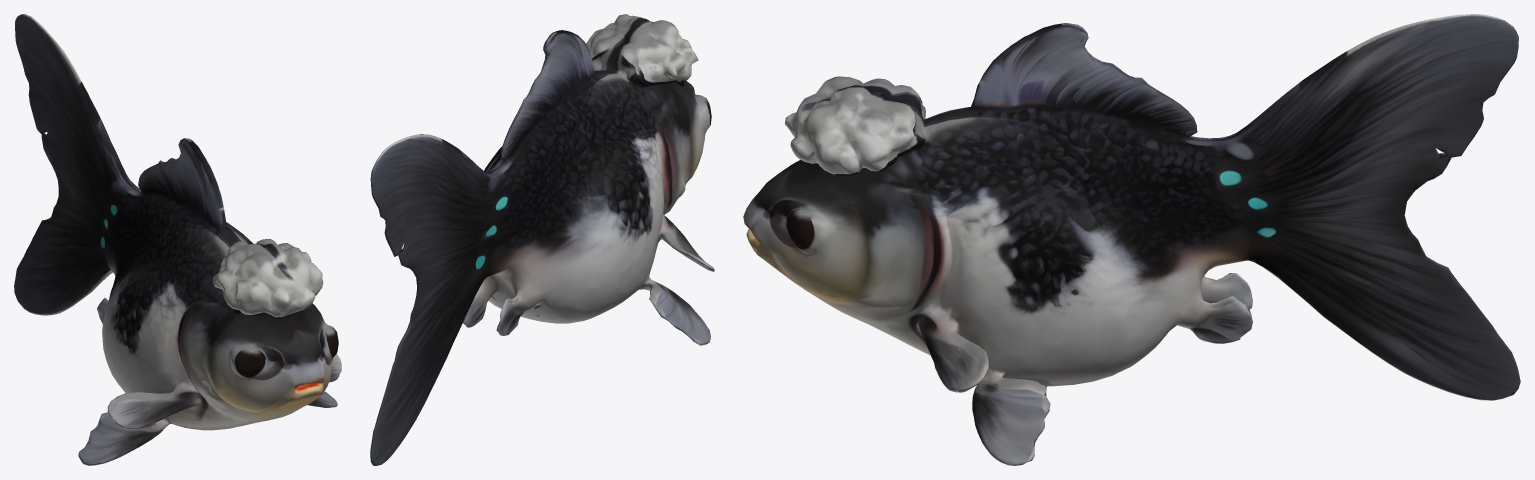
The model's file is goldfish_oranda.glb.
The picture shows the model from 3 angles, left to right: view 1: azimuth 30°, elevation 25°; view 2: azimuth 150°, elevation 25°; view 3: azimuth 270°, elevation 25°; orthographic projection. The views are drawn at different scales.
Parts seen in each view (by area): view 1: tripo_node_3522eeda-be8e-46e5-ba6d-fabb6b83a0ba; view 2: tripo_node_3522eeda-be8e-46e5-ba6d-fabb6b83a0ba; view 3: tripo_node_3522eeda-be8e-46e5-ba6d-fabb6b83a0ba.
Part boxes in pixels (bbox=[...]): tripo_node_3522eeda-be8e-46e5-ba6d-fabb6b83a0ba: bbox=[14, 14, 341, 465]; tripo_node_3522eeda-be8e-46e5-ba6d-fabb6b83a0ba: bbox=[370, 14, 714, 465]; tripo_node_3522eeda-be8e-46e5-ba6d-fabb6b83a0ba: bbox=[743, 14, 1520, 465].
Bounding box in the file's own units: 0.4897 × 0.5486 × 1.
Materials: 1 (1 with a texture image).
